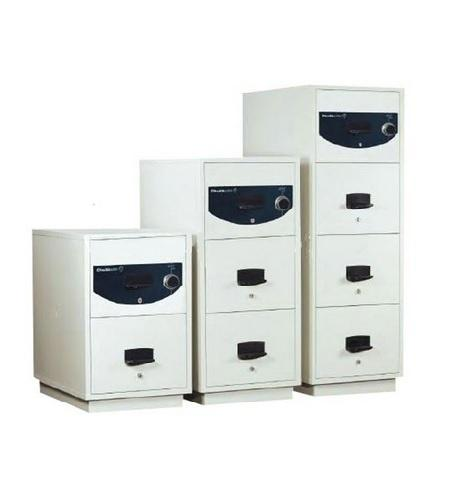cabinet_door: (93, 323, 187, 393), (206, 315, 294, 384), (206, 244, 292, 311), (314, 310, 398, 377), (318, 239, 398, 306), (319, 165, 396, 232)
handle: (122, 345, 158, 368), (345, 260, 376, 285), (236, 339, 268, 363), (236, 266, 267, 289), (343, 191, 376, 212), (344, 335, 375, 357)
